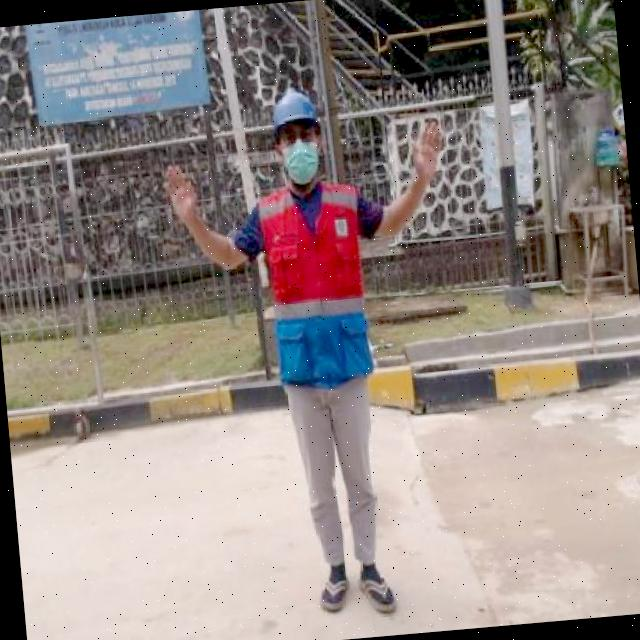vest: (235, 172, 387, 396)
